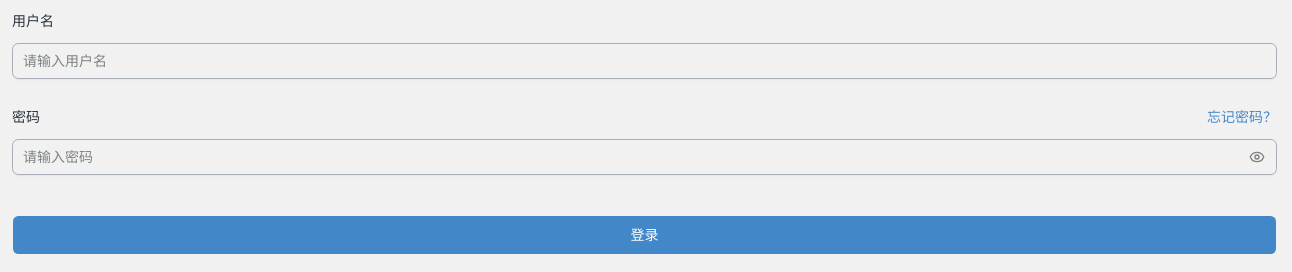
Test case: LoginForm › shows required errors and does not submit an empty form
Click the button "登录": [644, 235] box [12, 215, 1277, 255]
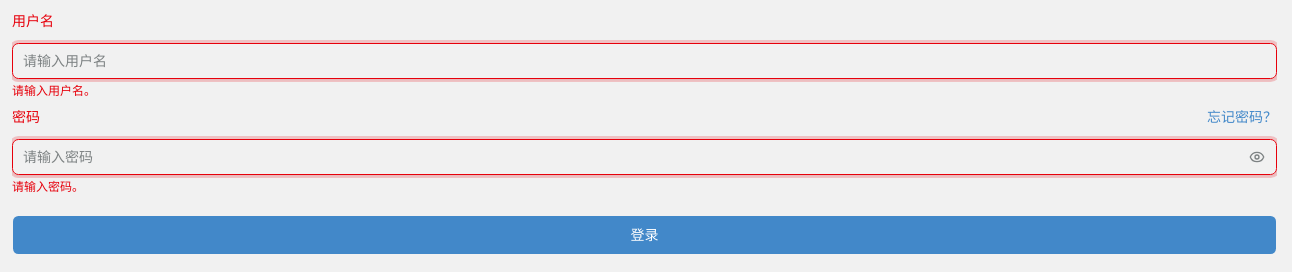
Now the text "请输入用户名。" is shown, box [12, 84, 96, 98]
Now the text "请输入密码。" is shown, box [12, 180, 84, 194]
